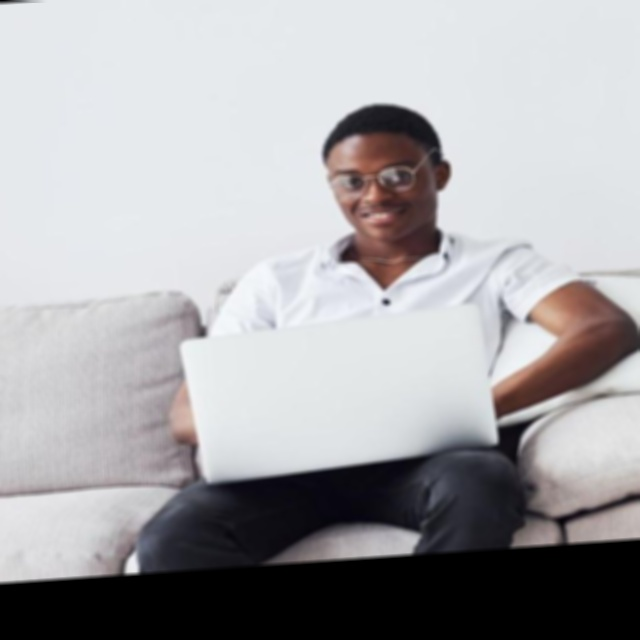Sin_Casco_Mascarrilla: (313, 98, 455, 241)
